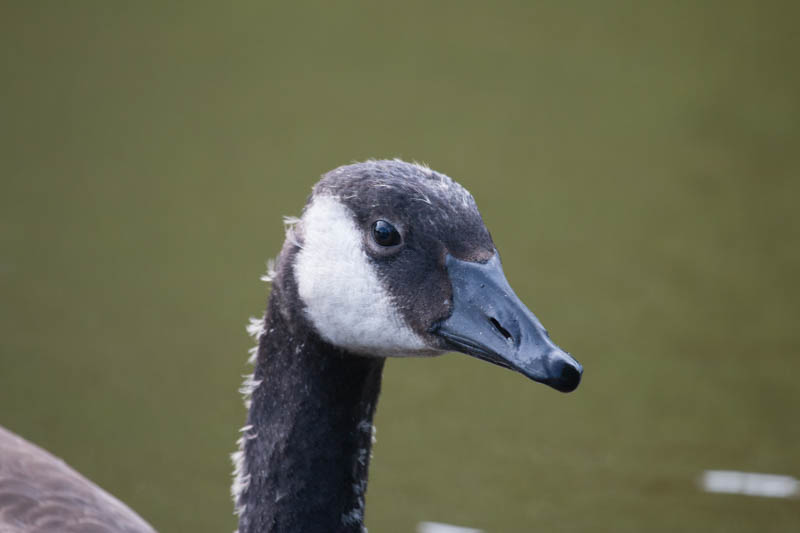goose-head: (264, 158, 583, 395)
